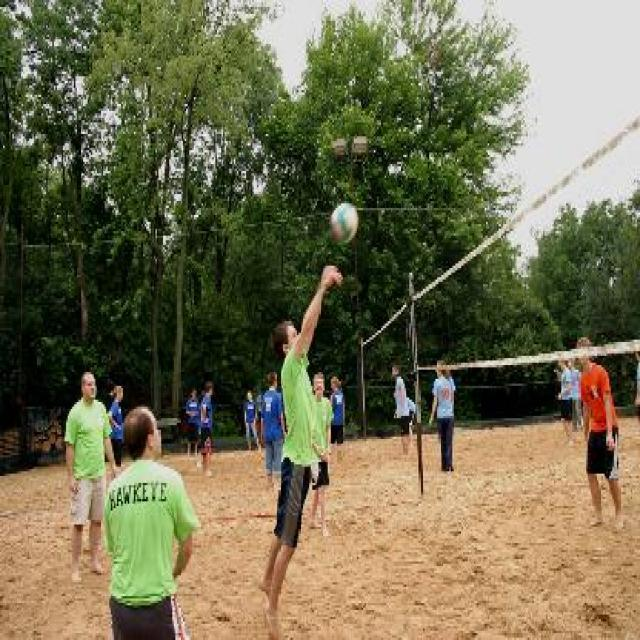volleyball: (329, 203, 358, 243)
